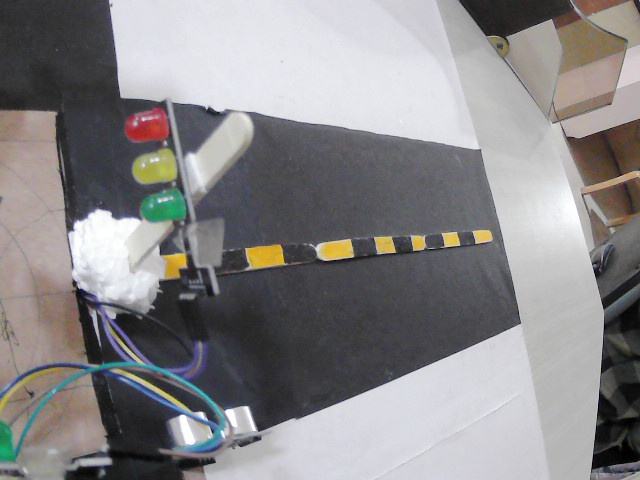black_strip: (190, 245, 246, 275), (284, 243, 320, 264), (351, 234, 378, 258), (422, 228, 444, 249), (390, 234, 414, 252), (458, 228, 475, 245)
mixed_lane: (162, 229, 500, 273)
traffic_light: (120, 102, 193, 222), (1, 420, 26, 477)
uno_breadboard: (165, 402, 265, 468)
yellow_strip: (243, 242, 282, 270), (162, 248, 195, 279), (320, 234, 352, 264), (476, 227, 495, 245), (375, 234, 392, 252), (442, 233, 461, 248), (412, 233, 427, 249)
